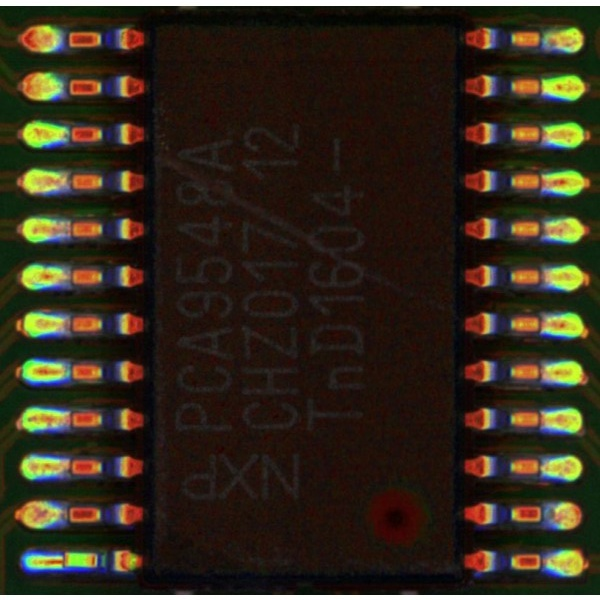Bad_podu: (531, 268, 560, 285), (526, 174, 558, 187), (528, 127, 557, 141), (530, 411, 561, 424), (529, 222, 560, 235), (528, 32, 557, 45), (531, 317, 560, 330), (56, 269, 84, 282), (55, 223, 85, 235), (52, 176, 84, 187), (529, 461, 558, 472), (54, 413, 81, 424), (55, 318, 82, 329), (53, 462, 82, 472), (54, 554, 75, 565)
